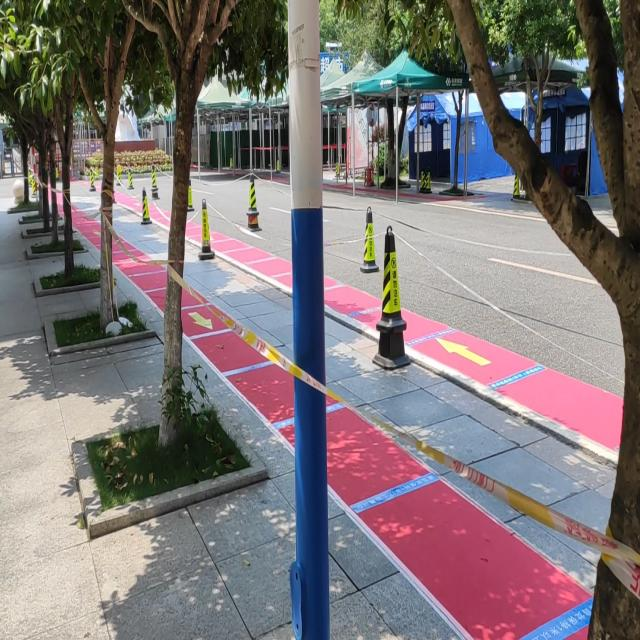pole: (278, 1, 338, 638)
reflective_cone: (375, 225, 407, 334), (359, 204, 379, 272), (198, 198, 215, 260), (246, 170, 259, 216), (140, 186, 152, 224), (186, 177, 195, 212), (150, 163, 159, 190), (424, 166, 432, 193), (512, 174, 520, 198), (88, 167, 96, 191), (127, 168, 134, 190), (419, 168, 425, 193)
spherical_roadblock: (13, 178, 24, 204)
